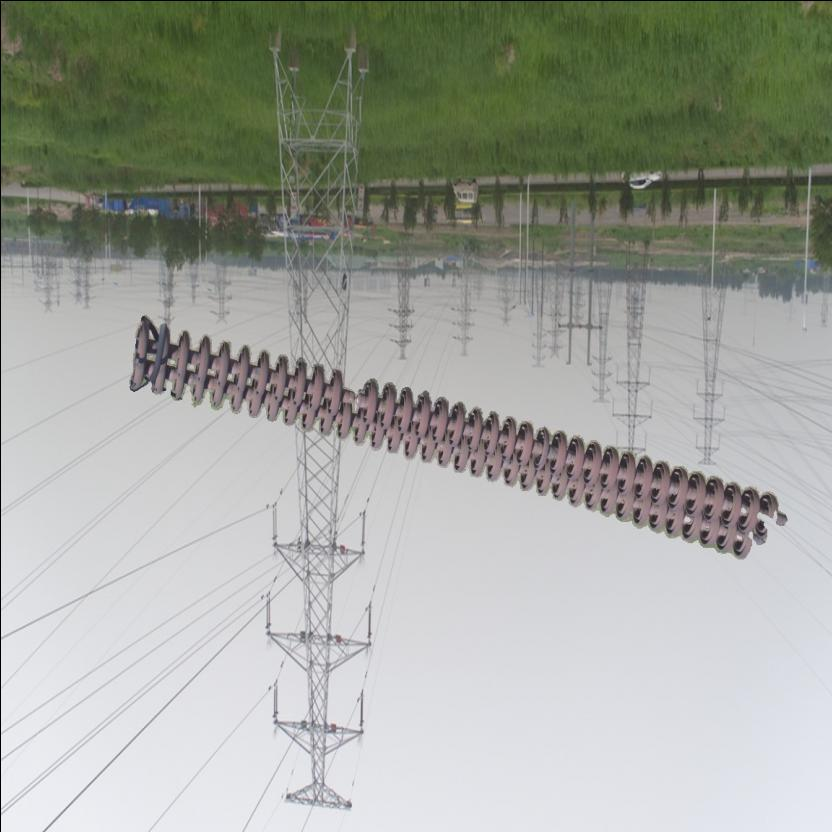defect: (322, 368, 378, 426)
